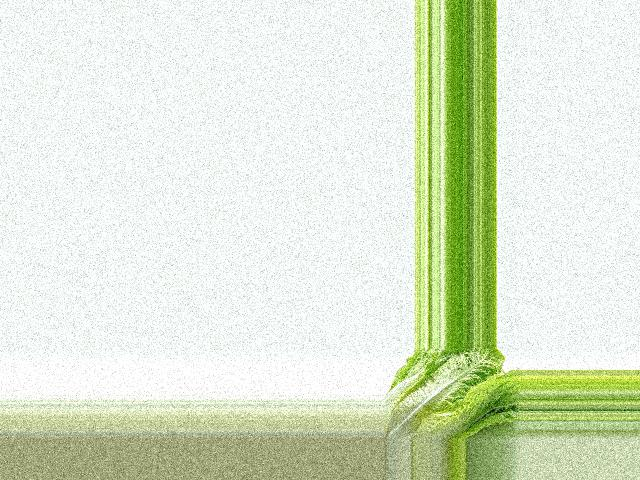lettuce: (384, 349, 521, 438)
